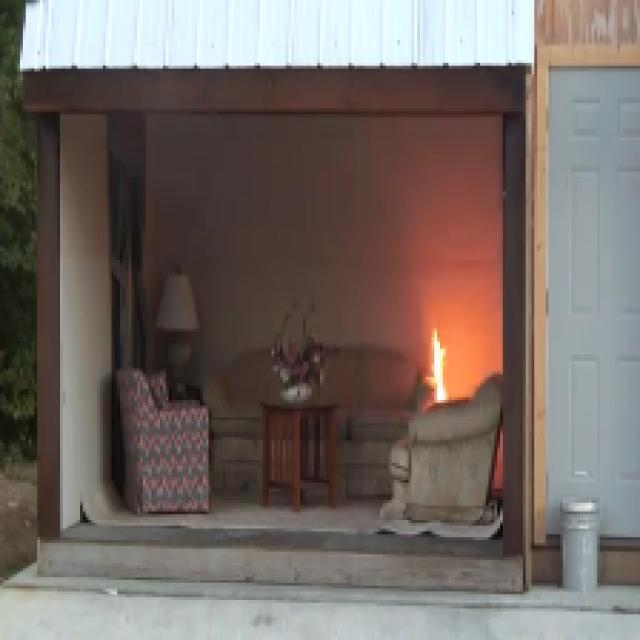fire: (423, 328, 448, 415)
